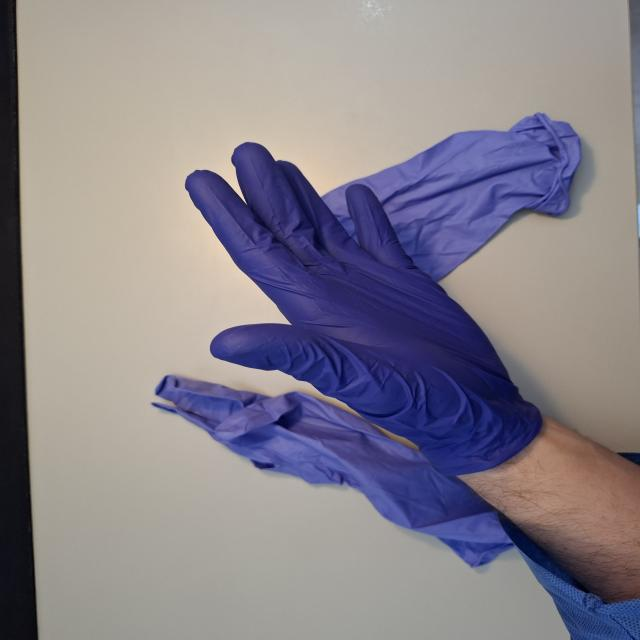glove_on: (182, 140, 539, 478)
